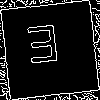E: (24, 24, 62, 73)
